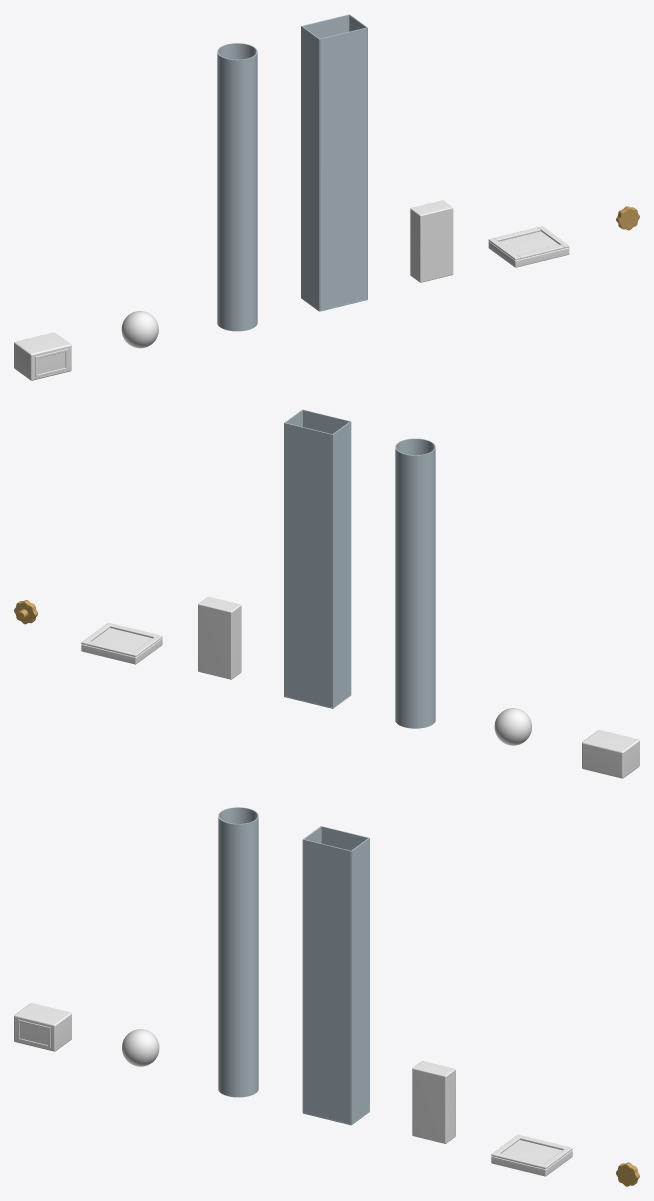
File: mean-physics-kit-v4.glb
The picture shows the model from 3 angles, top to bottom: view 1: azimuth 30°, elevation 25°; view 2: azimuth 150°, elevation 25°; view 3: azimuth 330°, elevation 25°; orthographic projection.
Visible parts, largest first — view 1: Tank, Tube, Rod, Crate, Pedestal, Ball; view 2: Tank, Tube, Rod, Crate, Pedestal, Ball; view 3: Tank, Tube, Rod, Crate, Pedestal, Ball.
Part boxes in pixels (x1,y1,x2,y2): Tank: (301,14,367,311); Tube: (217,43,257,331); Rod: (410,200,453,282); Crate: (14,332,71,380); Pedestal: (488,226,569,267); Ball: (121,311,158,348); Tank: (284,409,351,708); Tube: (395,438,435,728); Rod: (198,596,241,679); Crate: (582,730,639,778); Pedestal: (81,622,162,664); Ball: (494,708,531,745); Tank: (302,826,369,1125); Tube: (218,807,258,1097); Rod: (412,1061,455,1143); Crate: (14,1003,71,1051); Pedestal: (491,1134,572,1176); Ball: (122,1029,159,1066).
Bounding box in the file's own units: 9.48 × 4.02 × 0.72.
